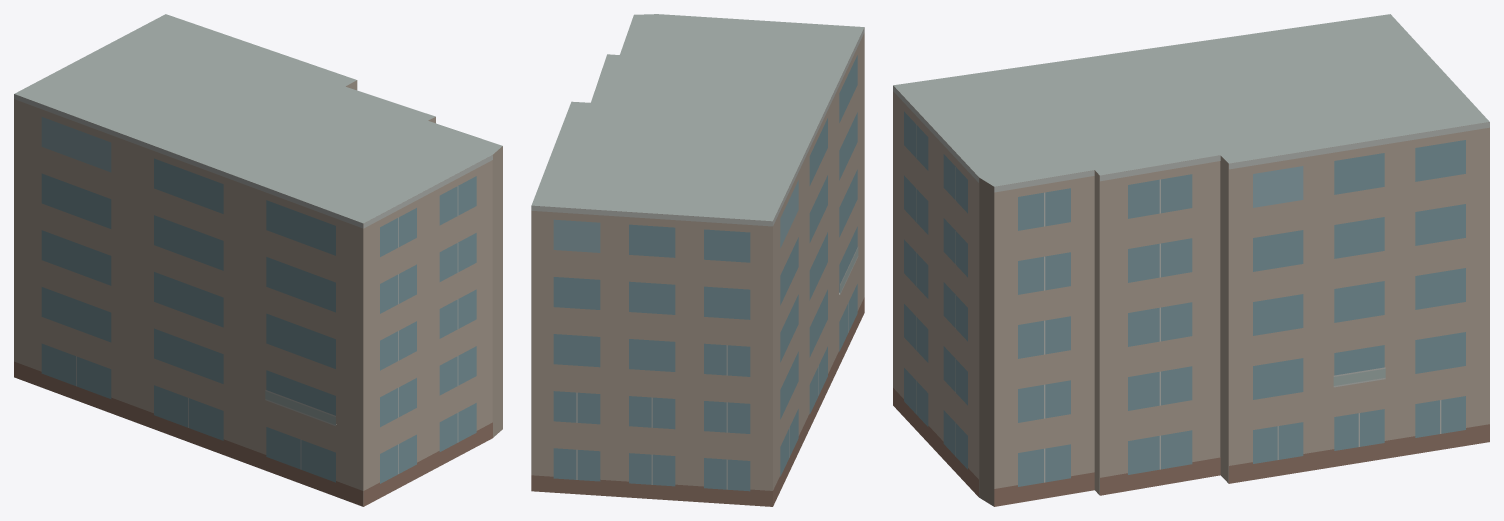
File: survey-upis-32824788.glb
3 renders of one model, left to right at view 1: azimuth 30°, elevation 25°; view 2: azimuth 150°, elevation 25°; view 3: azimuth 270°, elevation 25°, orthographic. The views are drawn at different scales.
Visible parts, largest first — view 1: survey-upis-32824788.tmp; view 2: survey-upis-32824788.tmp; view 3: survey-upis-32824788.tmp.
Part boxes in pixels (x1,y1,x2,y2): survey-upis-32824788.tmp: (14,14,502,506); survey-upis-32824788.tmp: (531,14,864,506); survey-upis-32824788.tmp: (893,14,1489,506).
Size of the model in its own units: 15.51 by 13.4 by 22.64.
